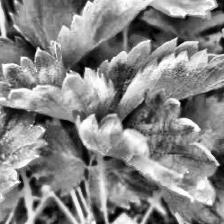Powdery Mildew Leaf: (72, 88, 220, 206), (95, 36, 224, 115), (0, 96, 49, 222)
